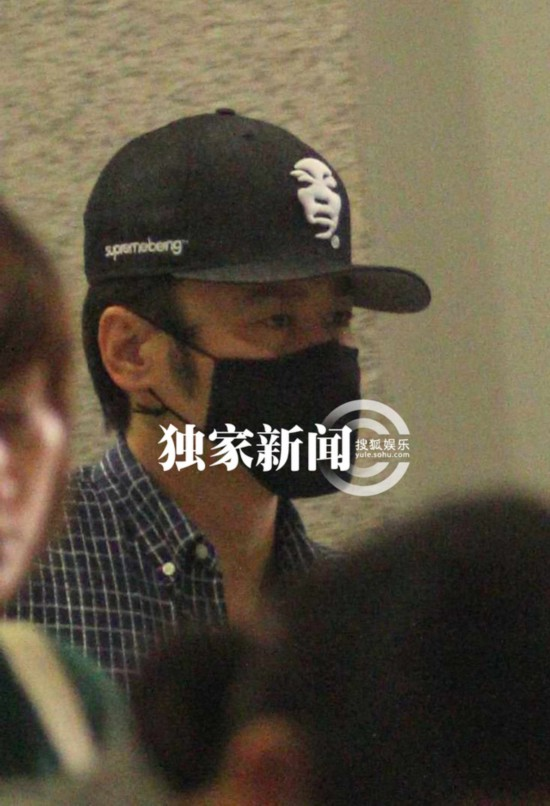face_mask: (177, 221, 352, 494)
